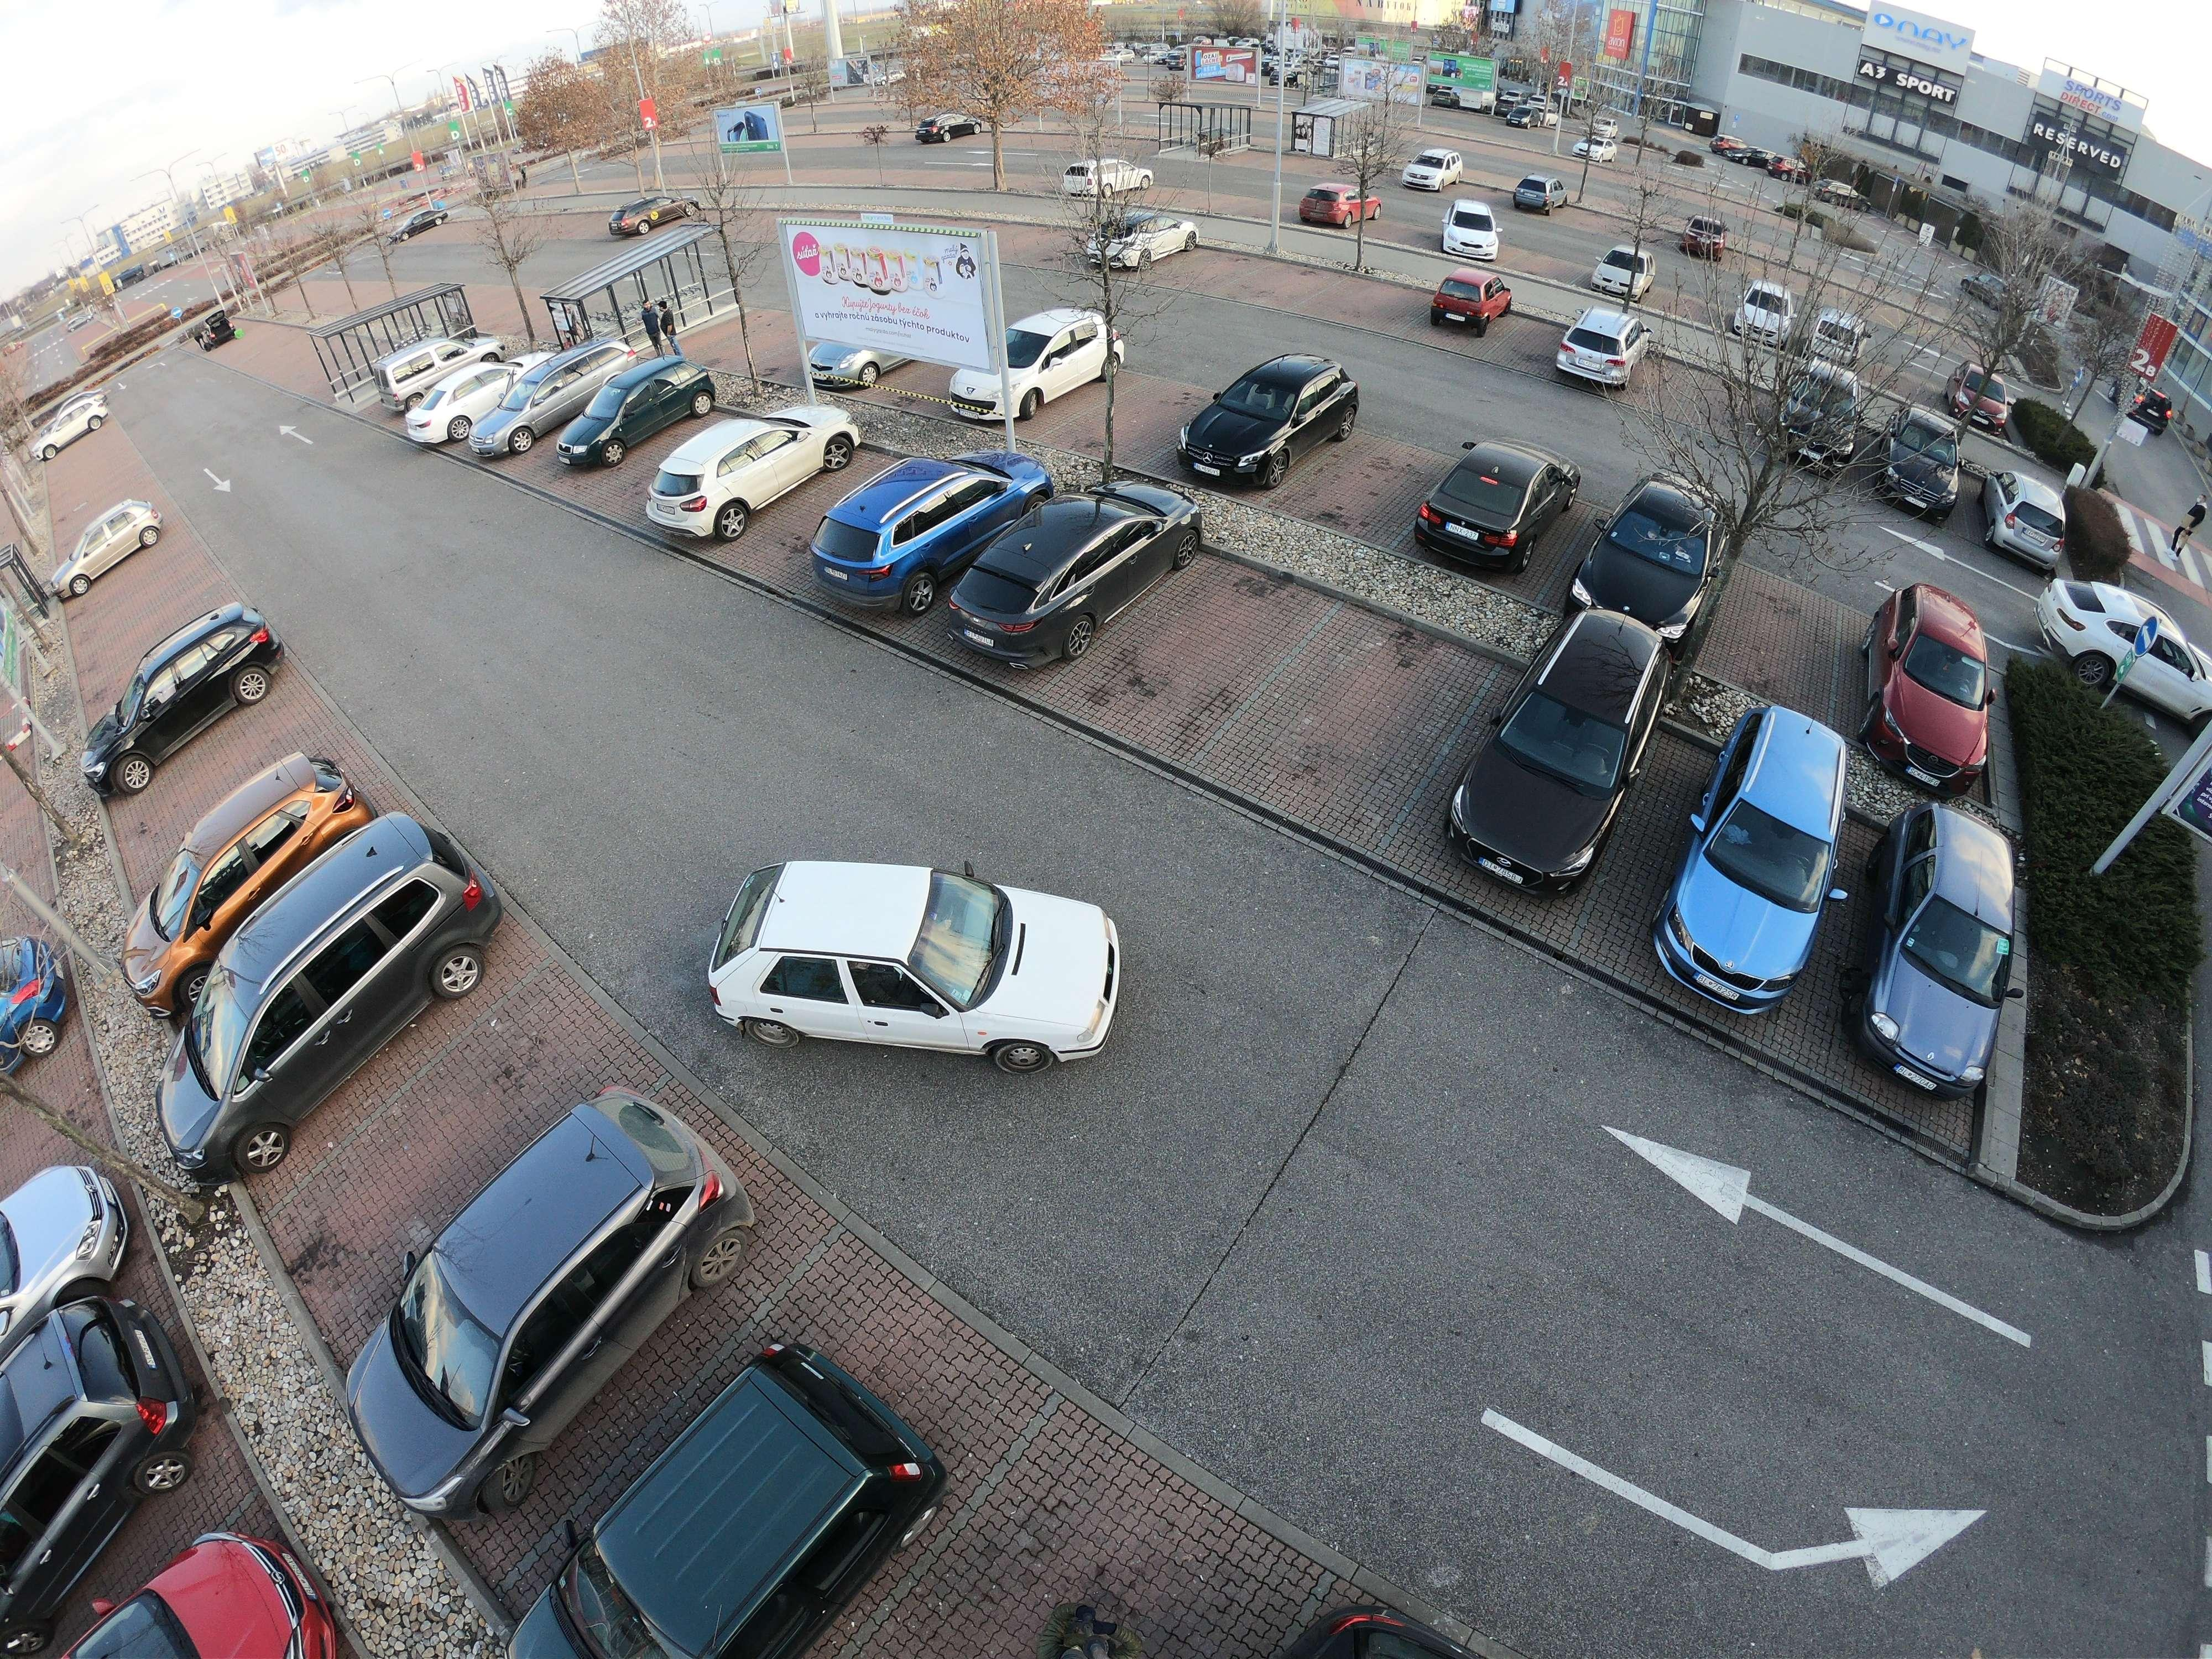empty: (347, 1079, 763, 1518), (554, 1328, 954, 1659), (188, 816, 523, 1162), (693, 856, 1127, 1073), (1655, 683, 1881, 1007), (14, 1260, 211, 1629), (1433, 626, 1688, 890), (1864, 791, 2031, 1087), (17, 1523, 368, 1656), (949, 490, 1190, 662), (155, 760, 373, 934), (815, 448, 1040, 599), (1848, 575, 2008, 777), (98, 610, 287, 772), (644, 410, 866, 545), (1172, 356, 1359, 491), (1407, 443, 1580, 573), (932, 310, 1120, 425), (1566, 488, 1719, 626), (2057, 586, 2203, 728), (557, 366, 723, 481), (460, 354, 611, 455), (45, 509, 183, 594), (399, 357, 529, 444), (1979, 477, 2078, 575), (1540, 312, 1648, 394), (1869, 444, 1968, 523), (1420, 275, 1510, 335), (805, 343, 895, 394), (1587, 249, 1655, 298), (1512, 174, 1568, 209)
occupied: (968, 1466, 1238, 1659), (368, 1053, 573, 1192), (1313, 613, 1421, 835), (1139, 525, 1230, 739), (772, 434, 888, 565), (1073, 371, 1183, 467), (92, 589, 206, 653), (1305, 270, 1416, 329), (1211, 246, 1291, 315), (1317, 455, 1420, 509), (1371, 213, 1458, 258), (1489, 328, 1559, 371)
